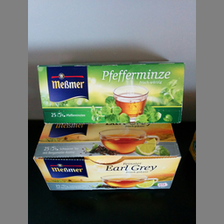tea: (32, 124, 182, 193), (36, 62, 189, 125)
